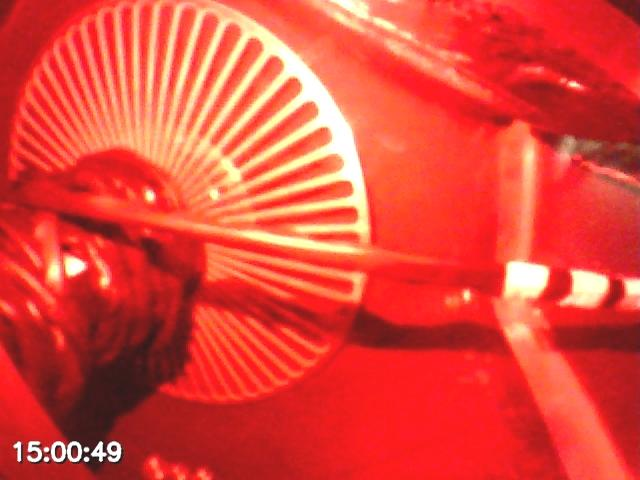white-dots: (504, 261, 640, 314)
